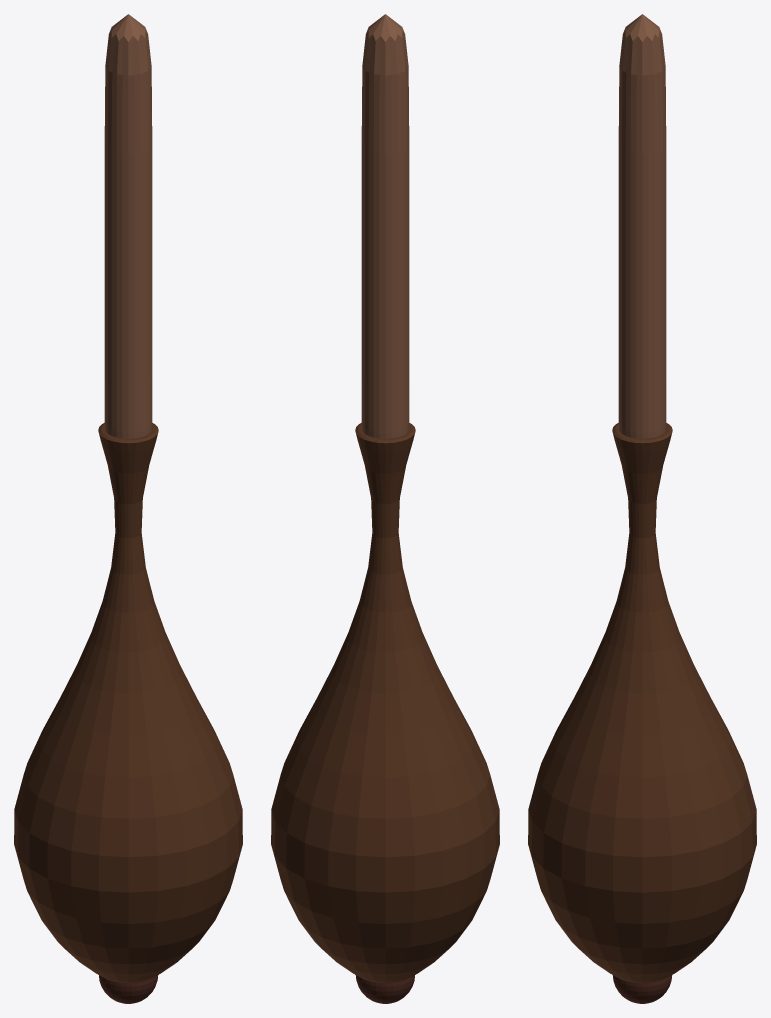
Rendered from Wand 913.glb.
The picture shows the model from 3 angles, left to right: view 1: azimuth 30°, elevation 25°; view 2: azimuth 150°, elevation 25°; view 3: azimuth 270°, elevation 25°; orthographic projection.
Visible parts, largest first — view 1: GeneratedWand; view 2: GeneratedWand; view 3: GeneratedWand.
Part boxes in pixels (x1,y1,x2,y2): GeneratedWand: (14, 14, 242, 1003); GeneratedWand: (271, 14, 499, 1003); GeneratedWand: (528, 14, 756, 1003).
Bounding box in the file's own units: 0.1026 × 0.4883 × 0.1026.
